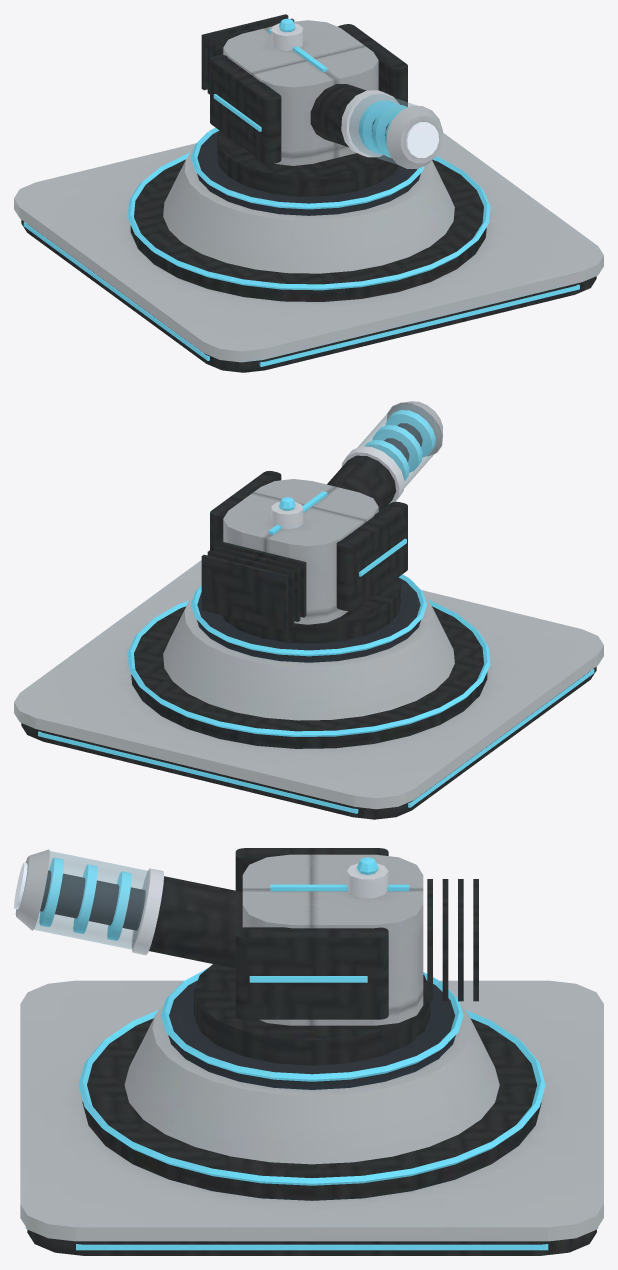
The model's file is enterprise_laser.glb.
The picture shows the model from 3 angles, top to bottom: view 1: azimuth 30°, elevation 25°; view 2: azimuth 150°, elevation 25°; view 3: azimuth 270°, elevation 25°; orthographic projection. The views are drawn at different scales.
Visible parts, largest first — view 1: te_enterprise_laser, move_scope; view 2: te_enterprise_laser, move_scope; view 3: te_enterprise_laser, move_scope.
Part boxes in pixels (box(x1,y1,x2,y2)): te_enterprise_laser: box(14, 94, 603, 372); move_scope: box(201, 14, 442, 196); te_enterprise_laser: box(14, 403, 603, 819); move_scope: box(201, 401, 442, 643); te_enterprise_laser: box(20, 851, 603, 1255); move_scope: box(14, 848, 478, 1065).
Bounding box in the file's own units: 0.84 × 0.448 × 0.849.
2 materials, 1 textured.
